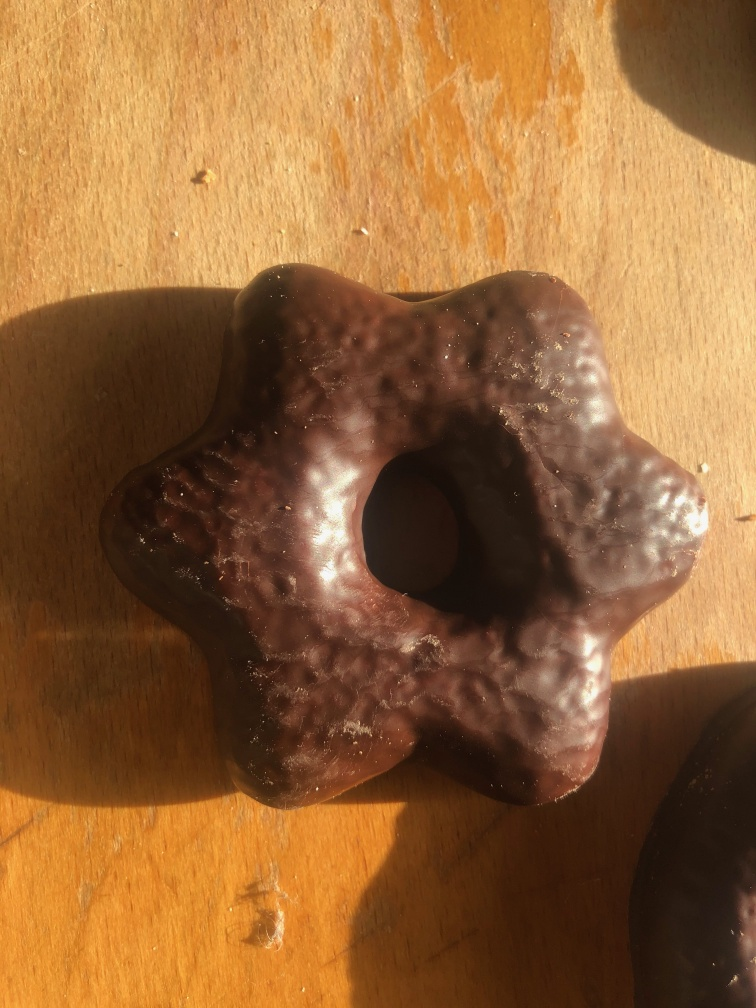star: (83, 250, 712, 815)
